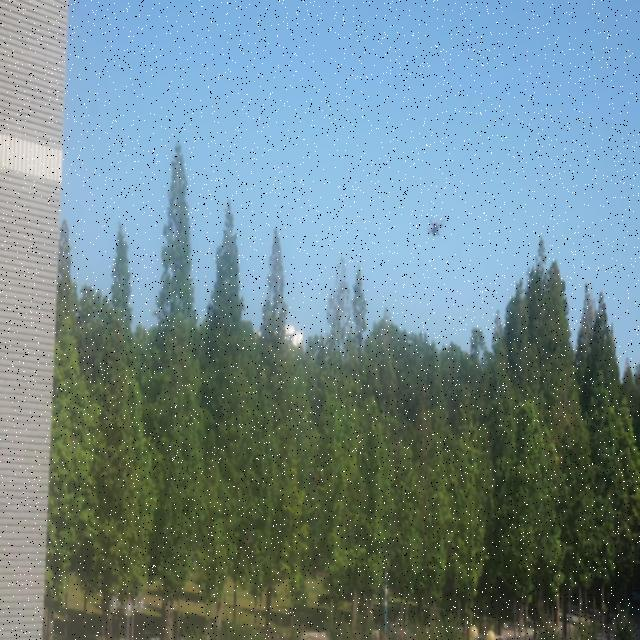UAV: (427, 219, 444, 237)
